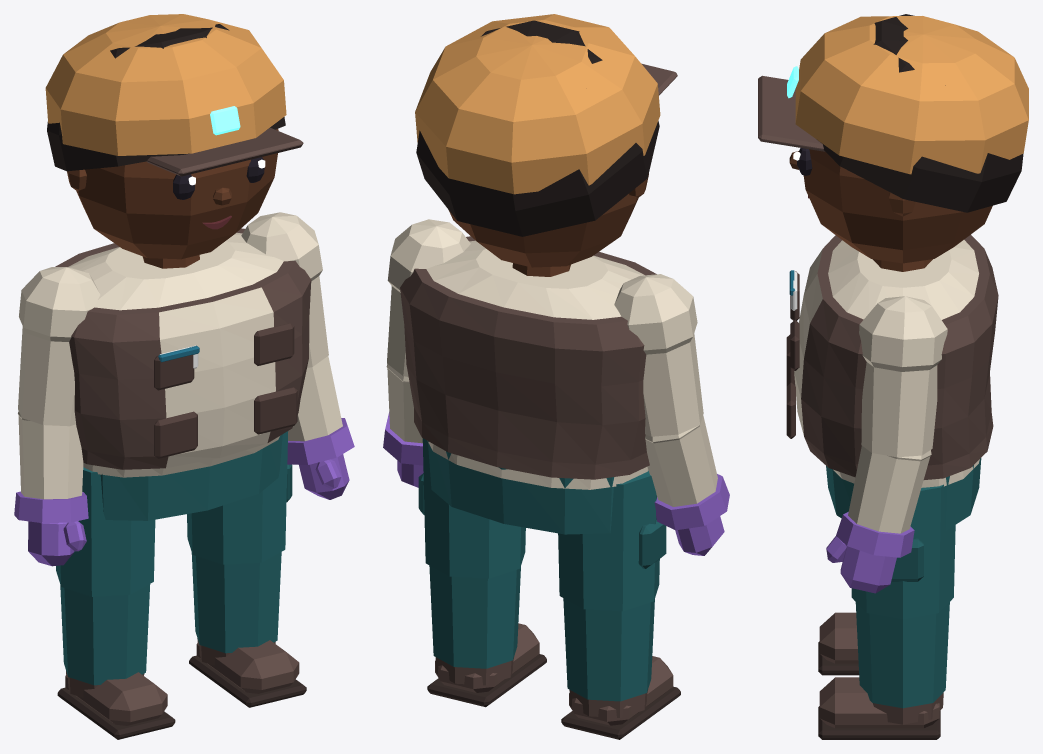
Rendered from auf_spo.glb.
3 views of the same model, side by side, from view 1: azimuth 30°, elevation 25°; view 2: azimuth 150°, elevation 25°; view 3: azimuth 270°, elevation 25° (orthographic).
Visible parts, largest first — view 1: weste, kopfbedeckung, arm_r, bein_r, bein_l, kopf, torso, arm_l, becken, taschen, schuh_l, schuh_r (+4 smaller); view 2: weste, kopfbedeckung, bein_r, arm_r, bein_l, haare, torso, becken, arm_l, kopf, schuh_l, schuh_r (+1 smaller); view 3: kopfbedeckung, weste, arm_l, bein_l, kopf, torso, haare, schuh_l, schuh_r, becken, hand_l, taschen (+2 smaller).
Boxes of the visible parts, x1,y1,x2,y2 form: weste: (55, 228, 311, 469); kopfbedeckung: (45, 14, 303, 176); arm_r: (14, 267, 100, 523); bein_r: (56, 467, 155, 685); bein_l: (187, 431, 292, 653); kopf: (67, 129, 278, 259); torso: (68, 232, 283, 477); arm_l: (241, 212, 354, 464); becken: (100, 434, 282, 520); taschen: (154, 323, 297, 458); schuh_l: (189, 638, 306, 707); schuh_r: (57, 671, 175, 739); weste: (400, 236, 656, 479); kopfbedeckung: (415, 14, 677, 194); bein_r: (558, 470, 666, 701); arm_r: (614, 274, 729, 530); bein_l: (418, 438, 525, 668); haare: (416, 20, 659, 236); torso: (426, 240, 648, 489); becken: (428, 441, 614, 534); arm_l: (383, 219, 470, 465); kopf: (448, 173, 648, 267); schuh_l: (427, 623, 546, 707); schuh_r: (561, 656, 680, 739); kopfbedeckung: (758, 16, 1028, 174); weste: (794, 234, 998, 479); arm_l: (836, 296, 947, 557); bein_l: (851, 484, 955, 708); kopf: (803, 149, 992, 263); torso: (828, 240, 979, 487); haare: (820, 14, 1023, 212); schuh_l: (818, 677, 943, 739); schuh_r: (818, 612, 859, 675); becken: (826, 458, 981, 530); hand_l: (826, 536, 896, 593); taschen: (786, 271, 799, 438).
Size of the model in its own units: 0.0124 by 0.0234 by 0.00866.
